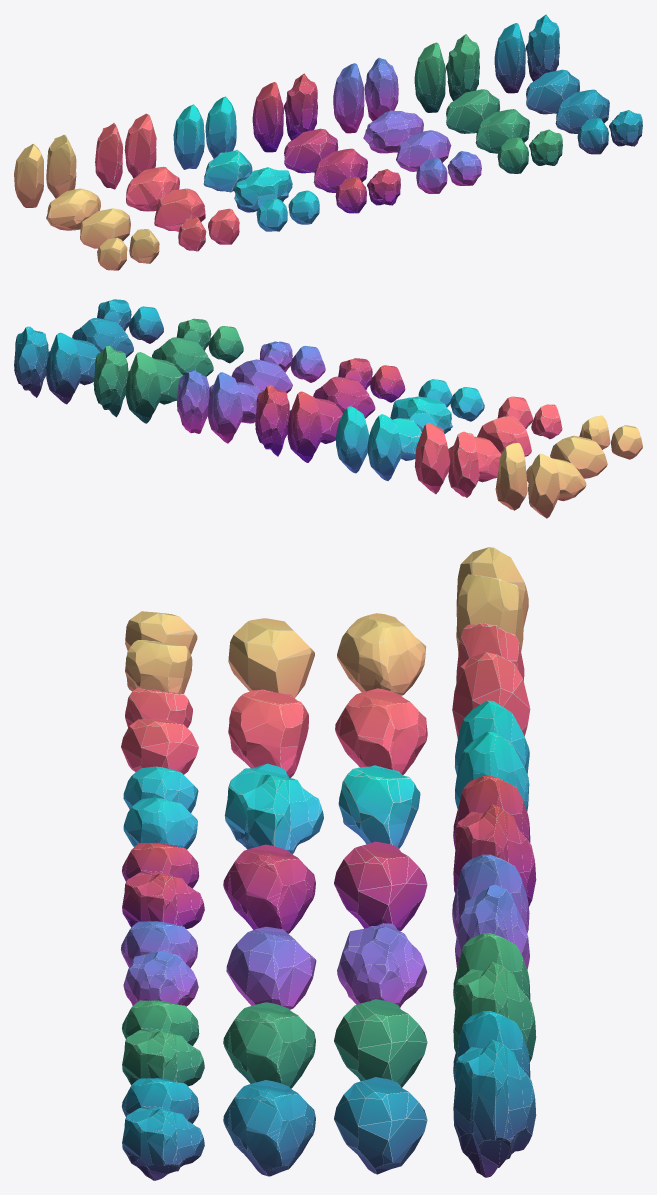
File: crystals.fbx
3 renders of one model, top to bottom at view 1: azimuth 30°, elevation 25°; view 2: azimuth 150°, elevation 25°; view 3: azimuth 270°, elevation 25°, orthographic. The views are drawn at different scales.
Visible parts, largest first — view 1: Cube.027, Cube.029, Cube.032, Cube.038, Cube.016, Cube.018, Cube.023, Cube.034, Cube.040, Cube.039, Cube.033, Cube.017 (+30 smaller); view 2: Cube.039, Cube.017, Cube.033, Cube.013, Cube.038, Cube.016, Cube.032, Cube.018, Cube.014, Cube.008, Cube.019, Cube.015 (+30 smaller); view 3: Cube.039, Cube.027, Cube.040, Cube.041, Cube.023, Cube.028, Cube.034, Cube.035, Cube.026, Cube.029, Cube.024, Cube.025 (+30 smaller).
Boxes of the visible parts, x1,y1,x2,y2 form: Cube.027: (233,167,292,212); Cube.029: (363,110,423,153); Cube.032: (414,42,445,112); Cube.038: (494,23,525,93); Cube.016: (252,82,283,152); Cube.018: (333,63,364,133); Cube.023: (284,128,338,173); Cube.034: (446,89,499,133); Cube.040: (526,69,579,114); Cube.039: (525,14,559,81); Cube.033: (446,34,479,100); Cube.017: (284,73,317,140); Cube.039: (14,326,48,397); Cube.017: (255,385,289,456); Cube.033: (93,346,128,417); Cube.013: (414,422,450,494); Cube.038: (46,332,81,404); Cube.016: (287,391,322,462); Cube.032: (126,352,160,423); Cube.018: (208,372,242,443); Cube.014: (367,414,401,480); Cube.008: (495,443,527,510); Cube.019: (177,370,209,433); Cube.015: (336,406,369,473); Cube.039: (453,1039,536,1177); Cube.027: (224,763,323,854); Cube.040: (334,1077,427,1174); Cube.041: (223,1080,315,1176); Cube.023: (334,841,427,930); Cube.028: (223,844,315,933); Cube.034: (334,999,427,1087); Cube.035: (223,1002,315,1088); Cube.026: (335,688,427,774); Cube.029: (337,923,426,1007); Cube.024: (226,926,316,1009); Cube.025: (337,613,425,695).
Bounding box in the file's own units: 3409 × 431 × 1128.
